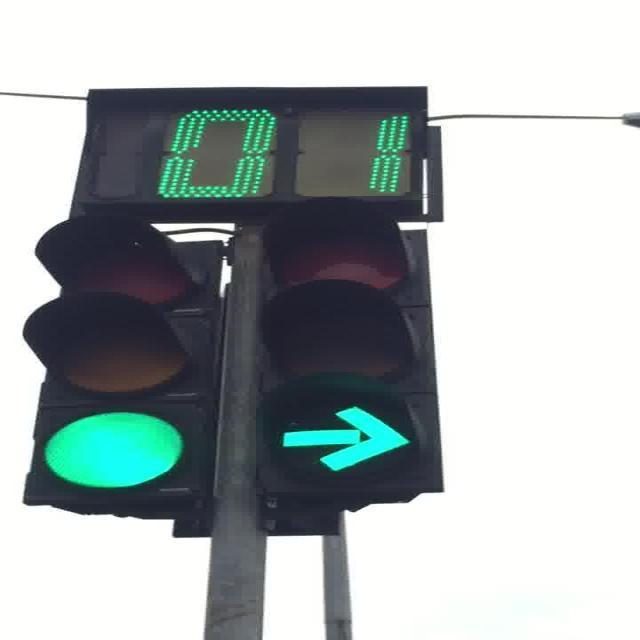green_light: (20, 215, 222, 507), (247, 196, 445, 492)
